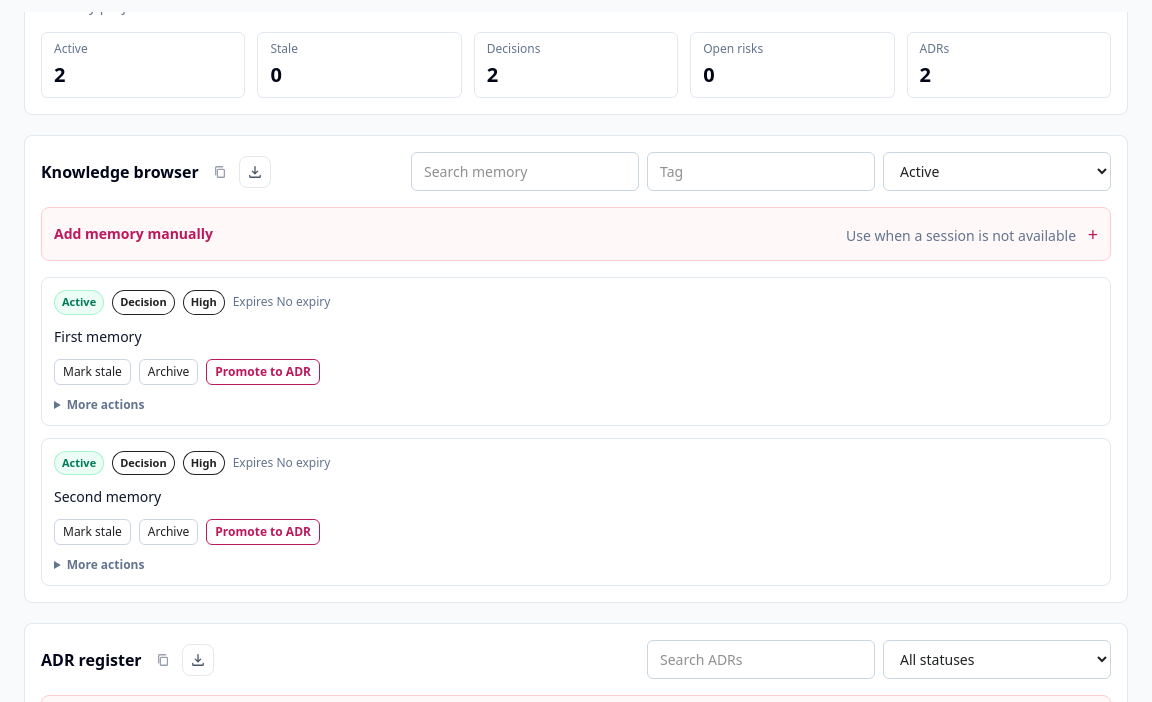
Test: MemoriaHomePage › opens promotion fields beside the selected memory and promotes it
The image size is (1152, 702).
(page scrolled)
Expected: the text "First memory" is shown, 54,326 -> 142,346
Click the button "Promote to ADR" below "First memory" at (263, 372), box 206,358 -> 320,384
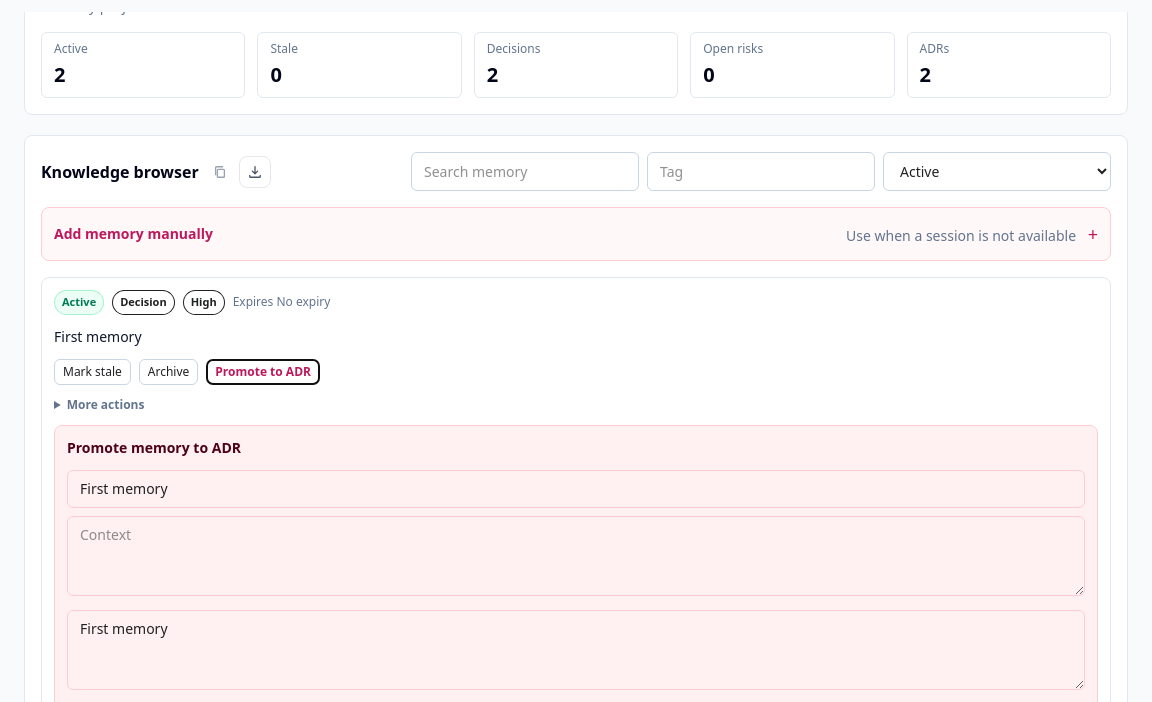
Result: the field named "ADR title" holds "First memory" at 67,470 -> 1085,508
Result: the text box named "ADR decision" holds "First memory" at 67,610 -> 1085,690
Type "Existing decision context" into the text box named "ADR context" at (576, 556), box 67,516 -> 1085,596
(page scrolled)
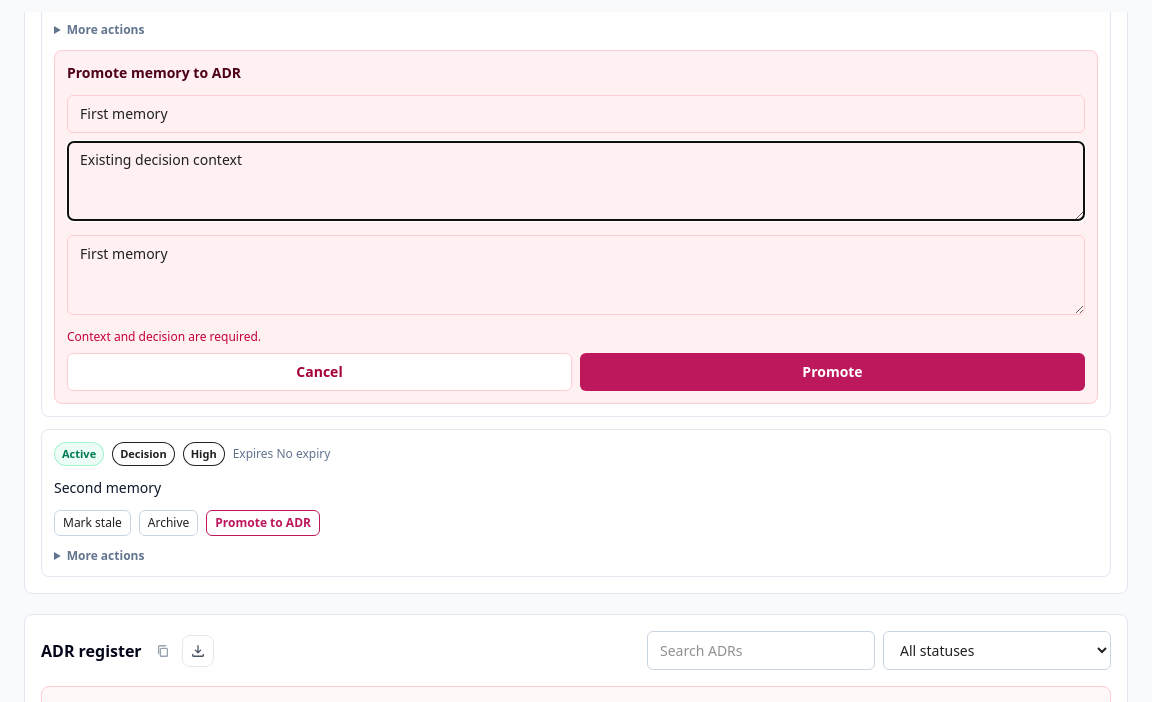
Click the button "Promote" at (832, 372), box 580,352 -> 1085,390
(page scrolled)
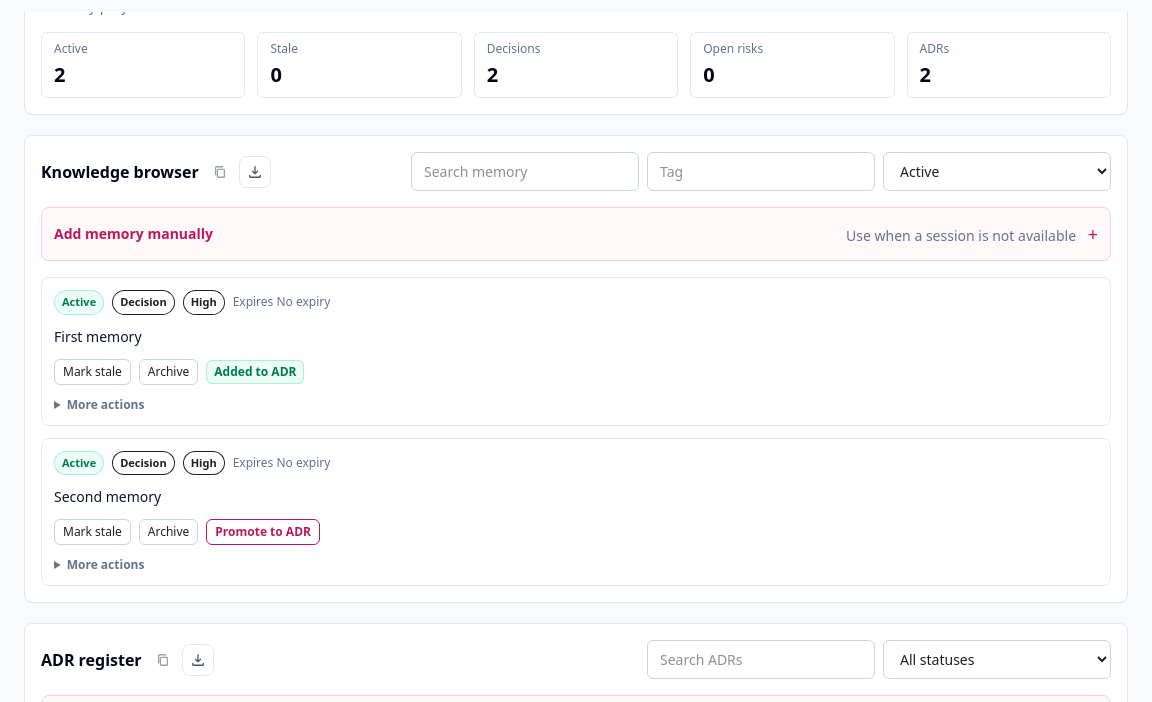
Result: the text "Added to ADR" is shown at 206,360 -> 304,384
